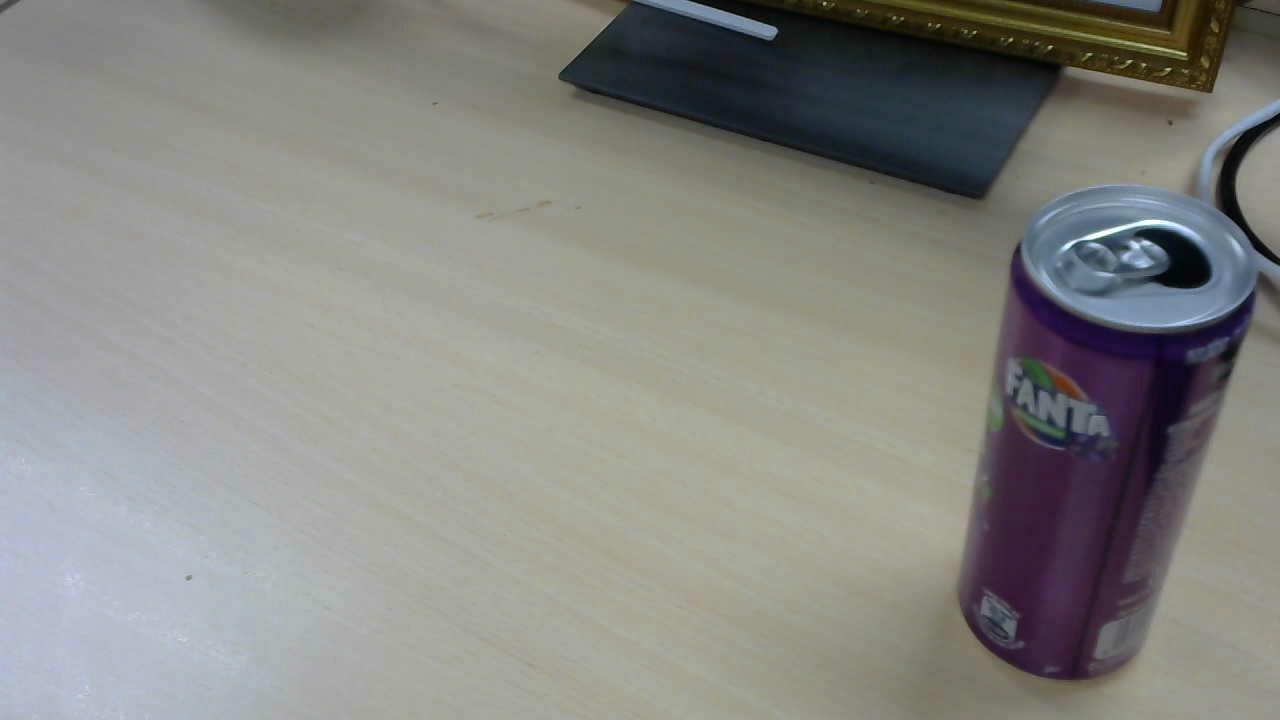Fanta: (964, 188, 1270, 683)
